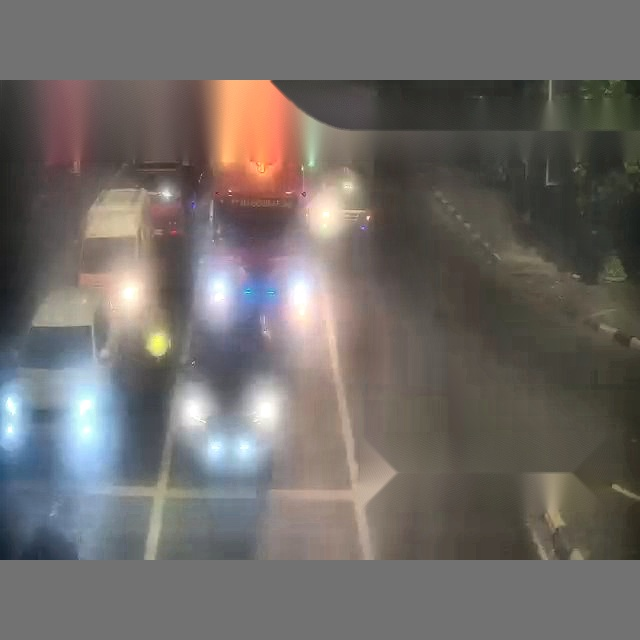Truk: (186, 33, 639, 558)
